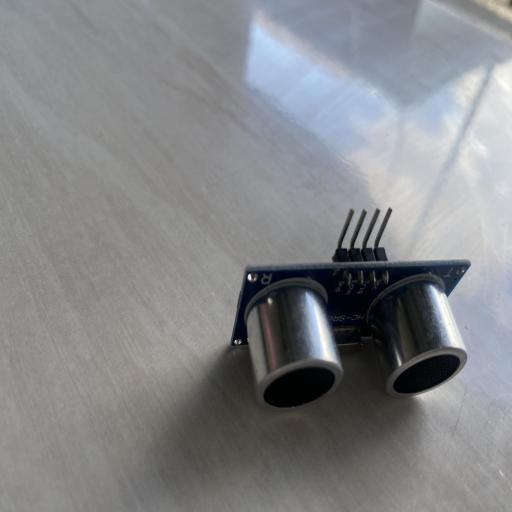Ultrasonic Sensor: (230, 207, 471, 412)
